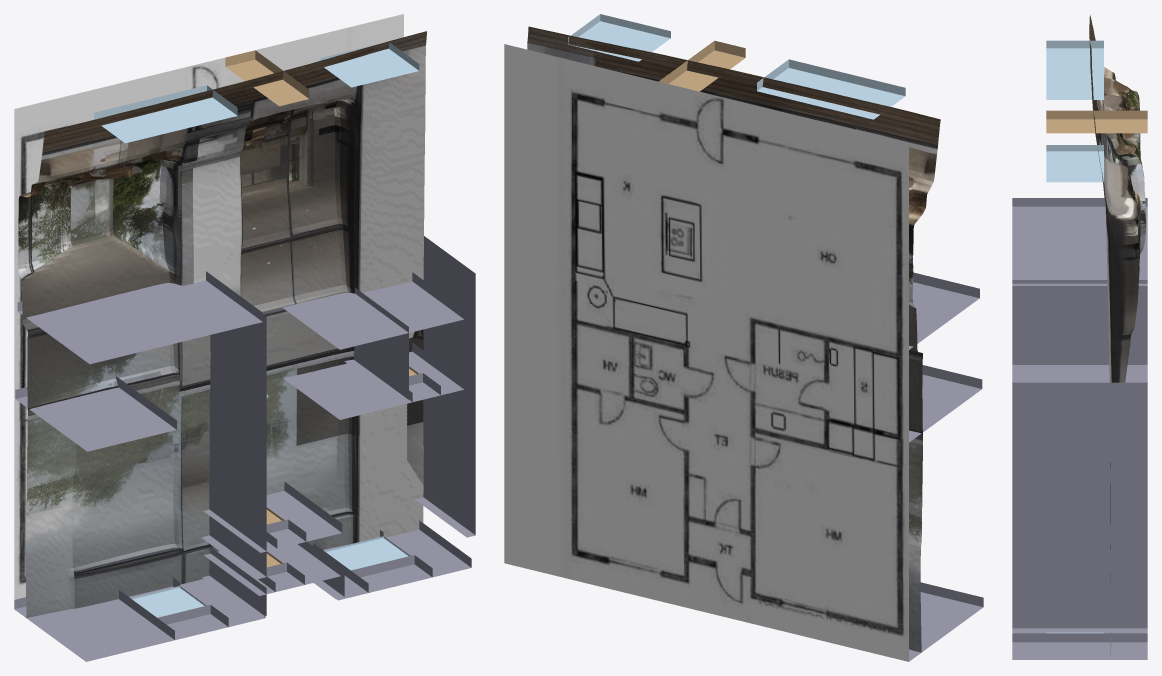
Rendered from sample3_interior.gltf.
The picture shows the model from 3 angles, left to right: view 1: azimuth 30°, elevation 25°; view 2: azimuth 150°, elevation 25°; view 3: azimuth 270°, elevation 25°; orthographic projection. The views are drawn at different scales.
Visible parts, largest first — view 1: InteriorMesh, CVBuilding, FloorPlan; view 2: FloorPlan, InteriorMesh, CVBuilding; view 3: CVBuilding, InteriorMesh.
Boxes of the visible parts, left/top/right/bottom form: InteriorMesh: left=18, top=31, right=426, bottom=617; CVBuilding: left=14, top=42, right=475, bottom=661; FloorPlan: left=14, top=14, right=403, bottom=599; FloorPlan: left=504, top=44, right=908, bottom=661; InteriorMesh: left=527, top=26, right=940, bottom=652; CVBuilding: left=568, top=14, right=983, bottom=661; CVBuilding: left=1012, top=40, right=1147, bottom=659; InteriorMesh: left=1089, top=15, right=1145, bottom=654.
Bounding box in the file's own units: 8.76 × 10.74 × 2.8.
3 materials, 2 textured.
